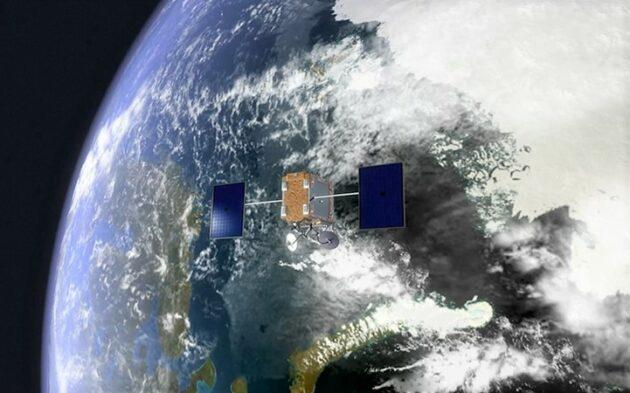antenna: (318, 231, 340, 250), (284, 231, 299, 254)
body: (280, 172, 337, 227)
solar: (357, 160, 407, 232), (209, 179, 247, 240)
